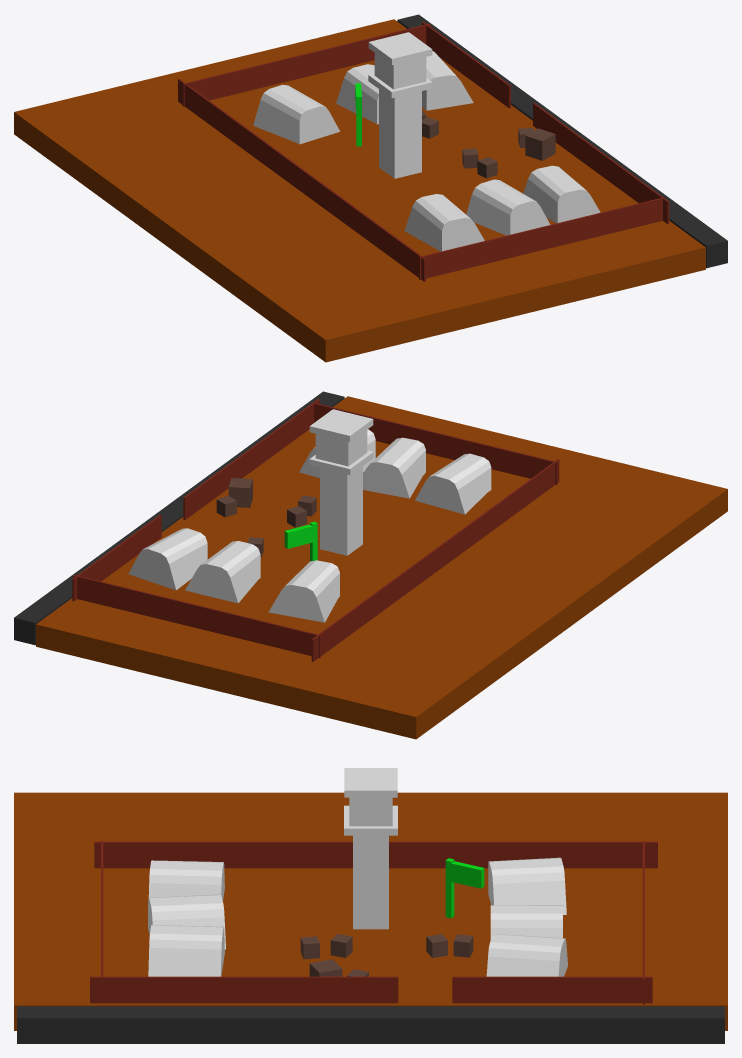
Rendered from CampMil.fbx.
3 renders of one model, top to bottom at view 1: azimuth 30°, elevation 25°; view 2: azimuth 150°, elevation 25°; view 3: azimuth 270°, elevation 25°, orthographic. The views are drawn at different scales.
Parts seen in each view (by area): view 1: dirt, Gate, camp, watch, Cube, Crates; view 2: dirt, Gate, camp, watch, Cube, Crates, Flag; view 3: dirt, Gate, Cube, camp, watch, Crates, Flag.
Boxes of the visible parts, x1,y1,x2,y2 form: dirt: (14, 19, 705, 362); Gate: (178, 22, 669, 281); camp: (253, 51, 600, 251); watch: (368, 32, 432, 178); Cube: (397, 14, 727, 268); Crates: (422, 109, 555, 178); dirt: (36, 396, 727, 739); Gate: (72, 399, 559, 661); camp: (128, 429, 491, 622); watch: (309, 409, 373, 555); Cube: (14, 391, 344, 645); Crates: (216, 478, 316, 557); Flag: (284, 521, 317, 561); dirt: (14, 792, 727, 1030); Gate: (90, 841, 657, 1004); Cube: (17, 1006, 724, 1043); camp: (148, 857, 567, 976); watch: (344, 768, 397, 929); Crates: (300, 934, 473, 976); Flag: (445, 858, 484, 918).
Bounding box in the file's own units: 3781 × 1312 × 5059.
